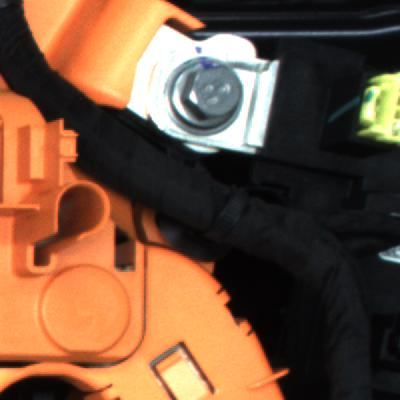nut_b: (160, 51, 263, 146)
